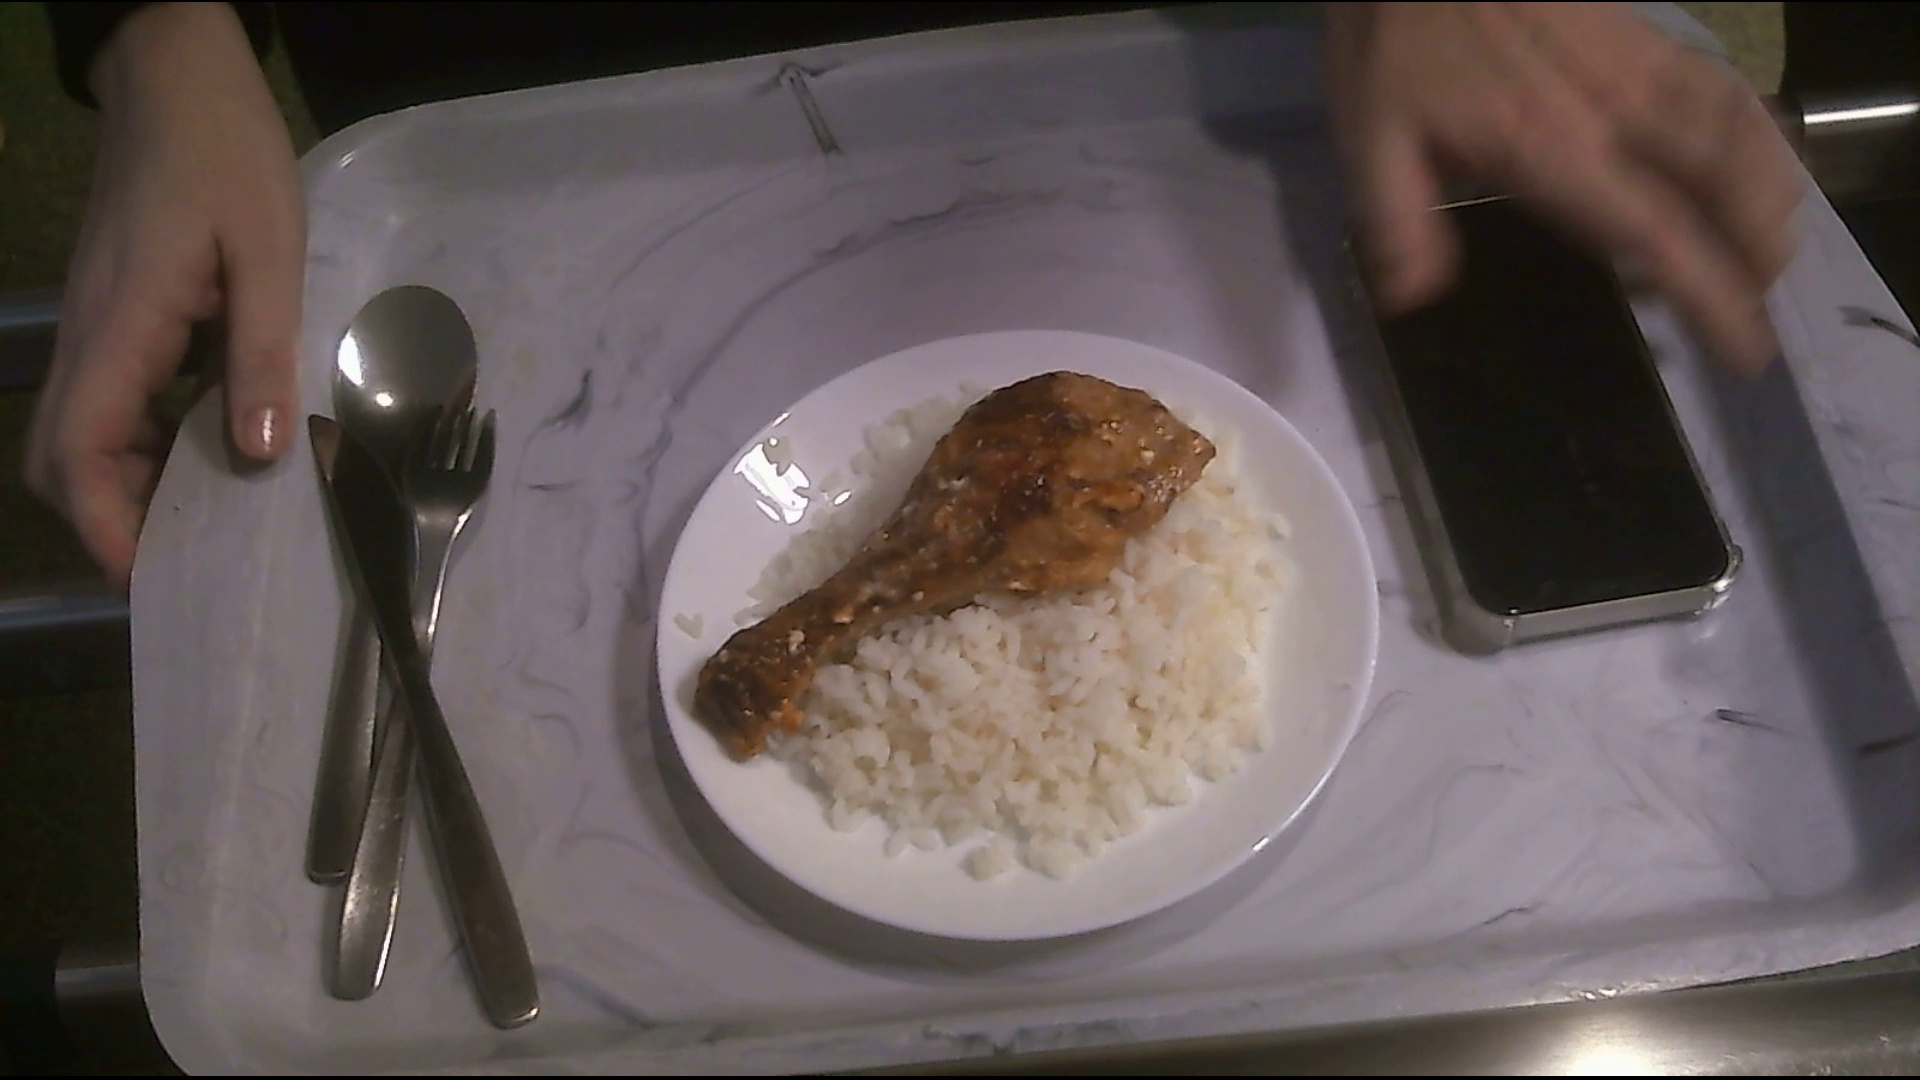cutlery: (307, 276, 550, 1035)
other: (1357, 222, 1741, 632)
plate: (654, 331, 1377, 935)
